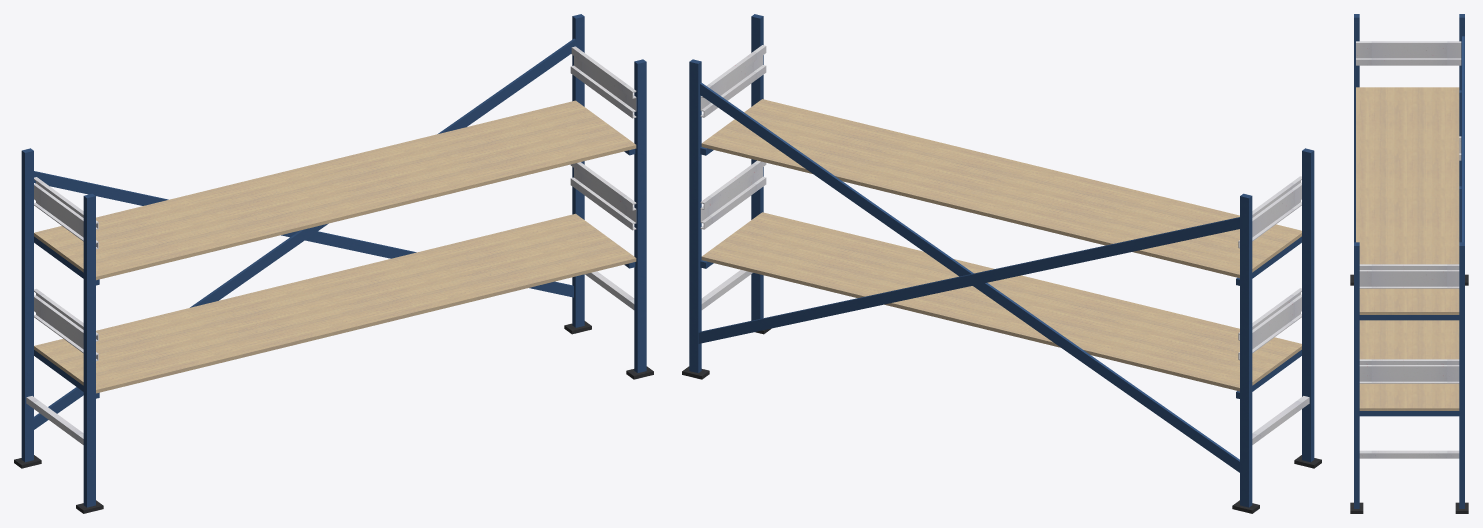
The model's file is BigShelves04.glb.
3 views of the same model, side by side, from view 1: azimuth 30°, elevation 25°; view 2: azimuth 150°, elevation 25°; view 3: azimuth 270°, elevation 25° (orthographic). The views are drawn at different scales.
Parts seen in each view (by area): view 1: BigShelves04; view 2: BigShelves04; view 3: BigShelves04.
Part boxes in pixels (<box>): BigShelves04: <box>14,14,653,513</box>; BigShelves04: <box>682,14,1321,513</box>; BigShelves04: <box>1350,14,1468,513</box>.
Size of the model in its own units: 8.57 by 4.49 by 1.81.
4 materials, 4 textured.
